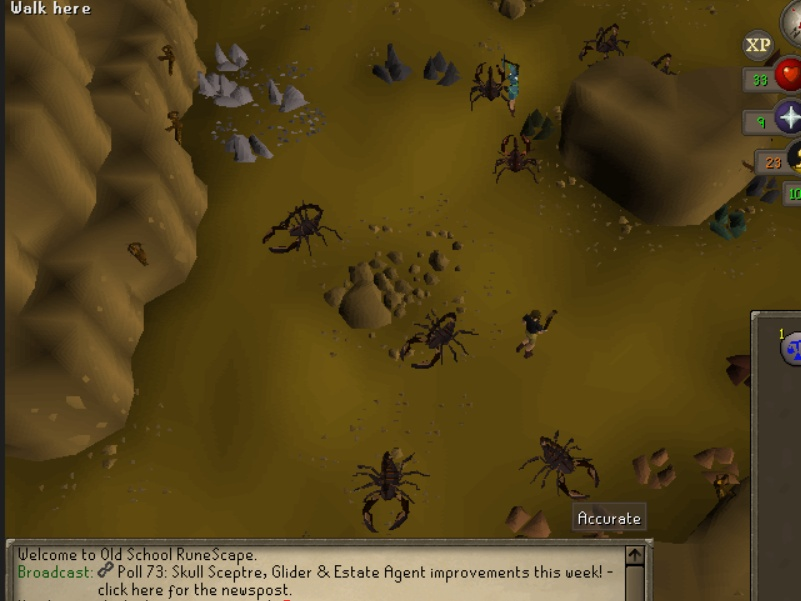adamant: (705, 199, 752, 241)
coal: (519, 104, 560, 146)
copper: (498, 494, 557, 541), (686, 442, 745, 489), (631, 448, 687, 489)
tin: (260, 74, 316, 115), (218, 127, 274, 168), (207, 38, 249, 71), (194, 69, 222, 94)
